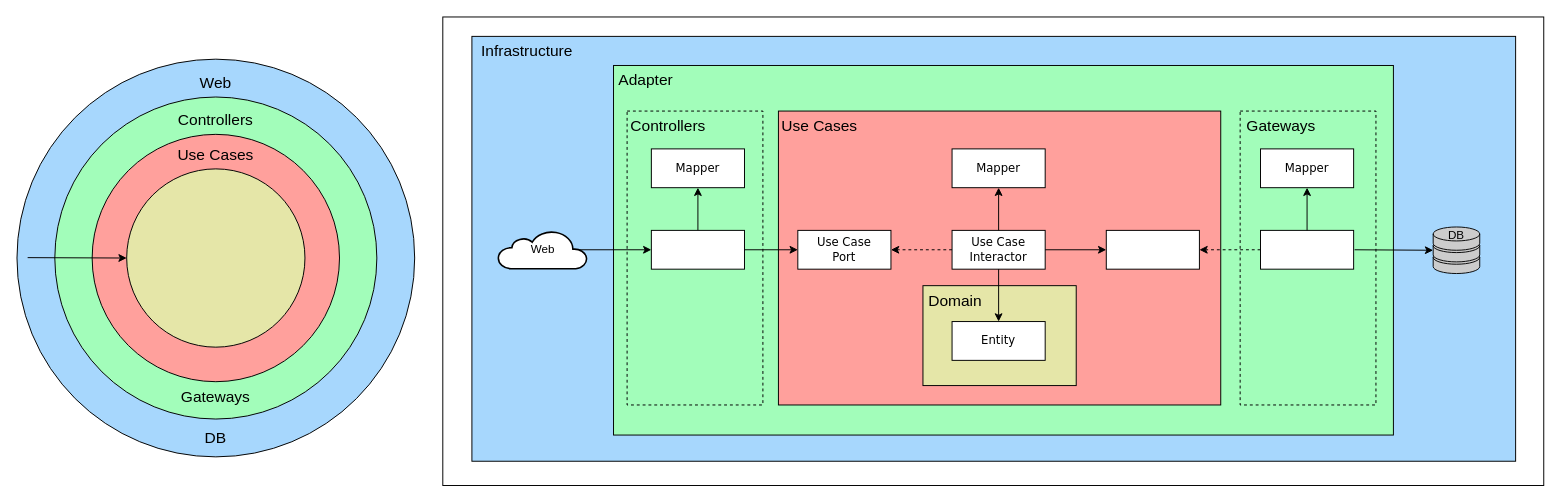
Image size: 1561x502. Some labels were removed from this diagram. The shapes that lost their labels are listed below. From the top down, each one's box as (x1, y1, x2, y2) in pixels, then its label:
(126, 168, 305, 347): Entities
(650, 229, 744, 269): Controller
(1105, 229, 1199, 269): Repository Port
(1260, 229, 1354, 269): Repository Interactor
